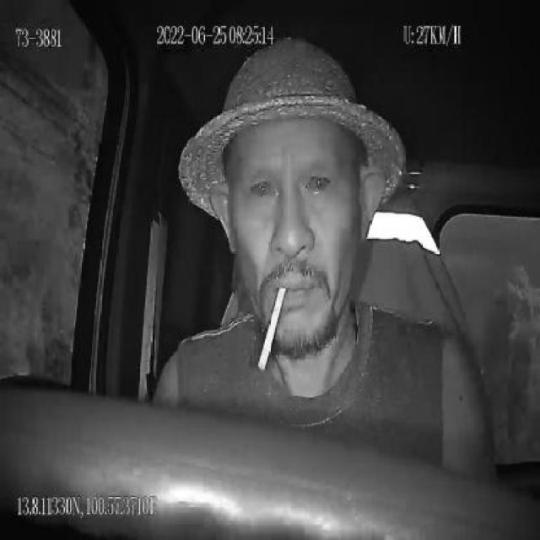smoking: (258, 284, 287, 376)
